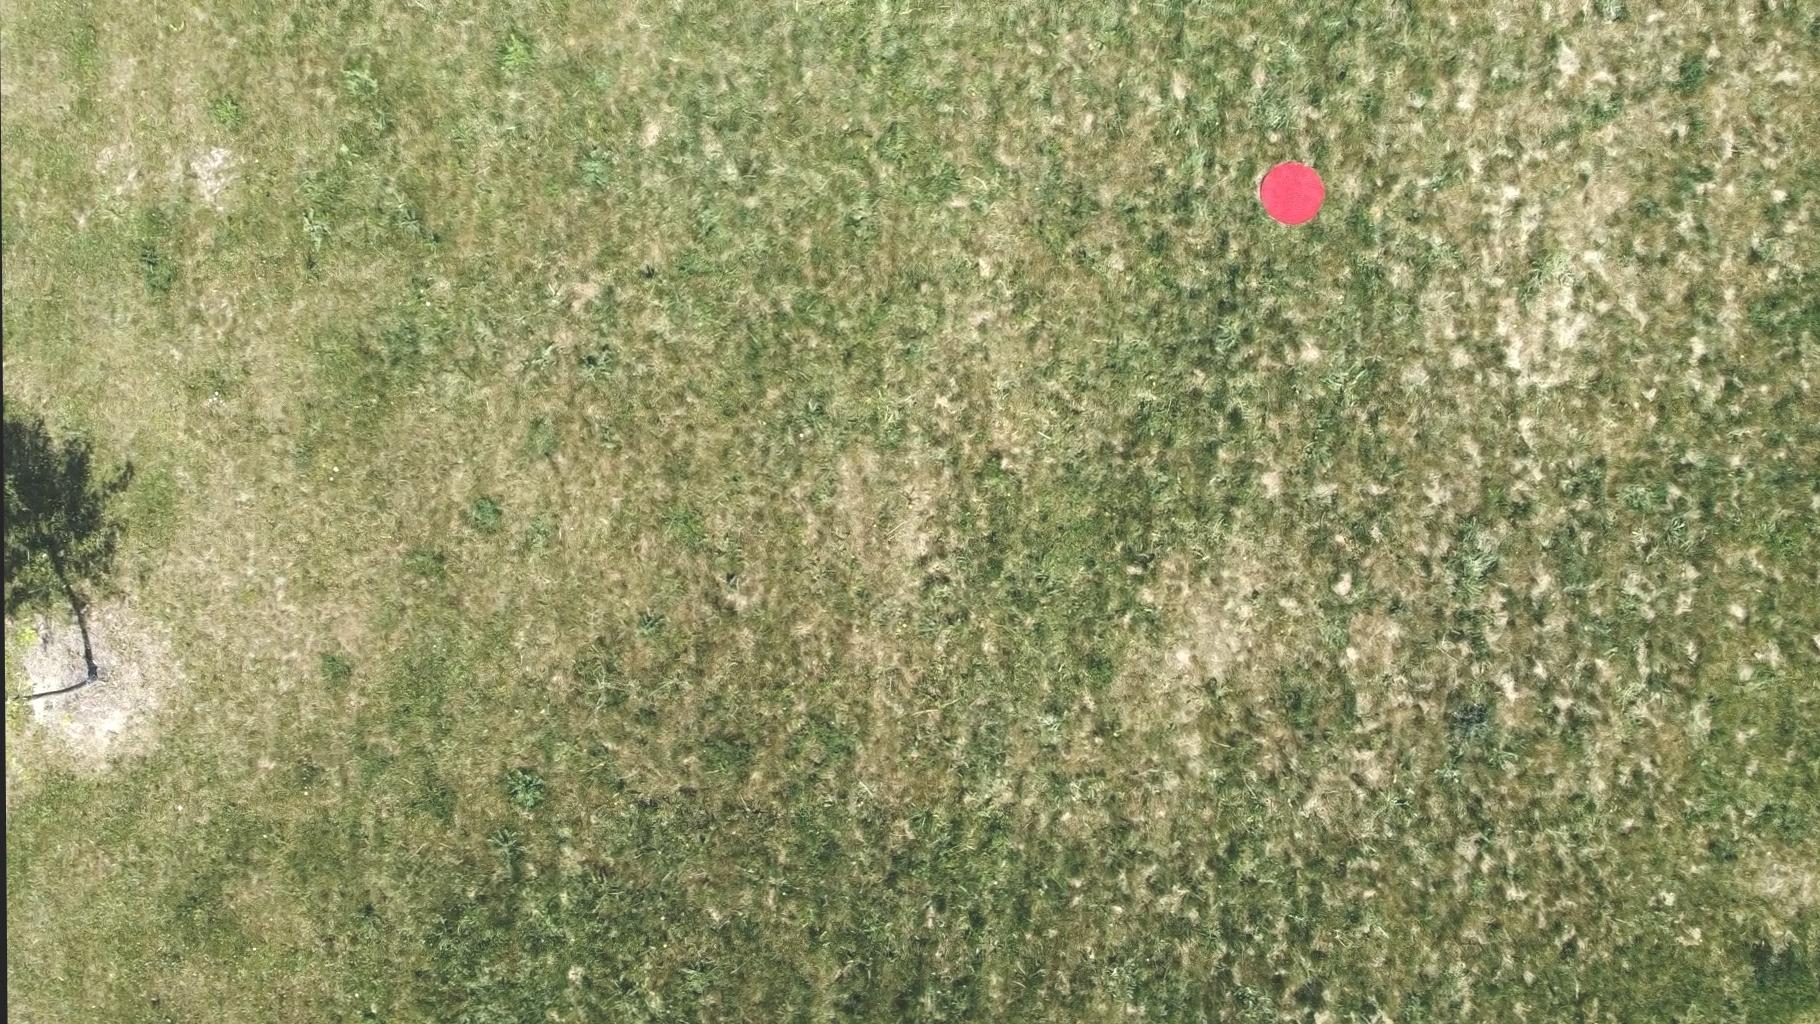Red: (1259, 160, 1327, 228)
